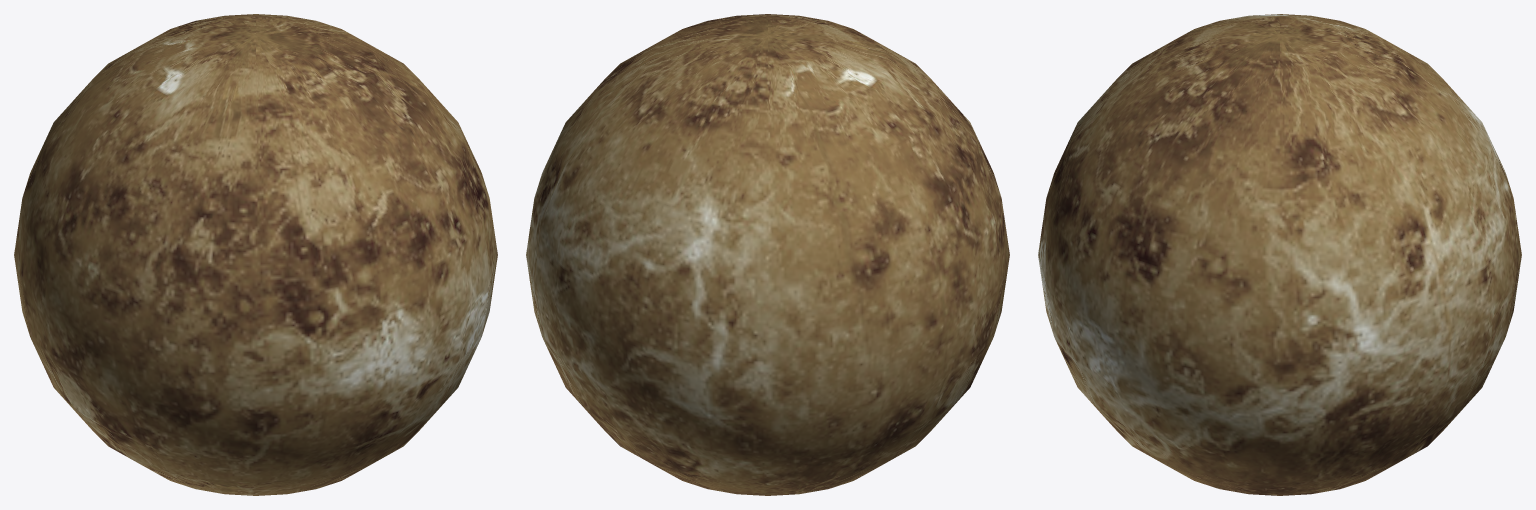
Rendered from rock.obj.
3 views of the same model, side by side, from view 1: azimuth 30°, elevation 25°; view 2: azimuth 150°, elevation 25°; view 3: azimuth 270°, elevation 25° (orthographic).
Bounding box in the file's own units: 2 × 2 × 2.
1 material, 1 textured.
